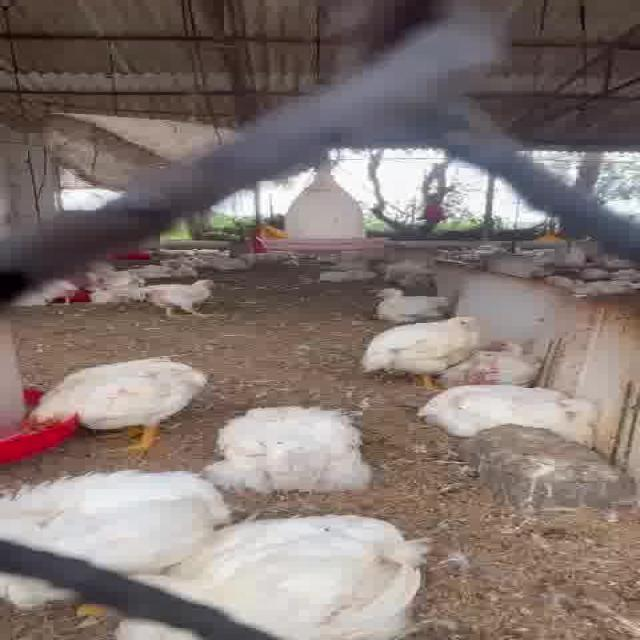AbNormal: (146, 516, 428, 638), (0, 471, 236, 605), (187, 401, 394, 498), (411, 386, 605, 439), (424, 333, 558, 381), (334, 288, 466, 324)
Normal: (22, 356, 217, 446), (343, 303, 496, 380), (125, 269, 228, 320)
